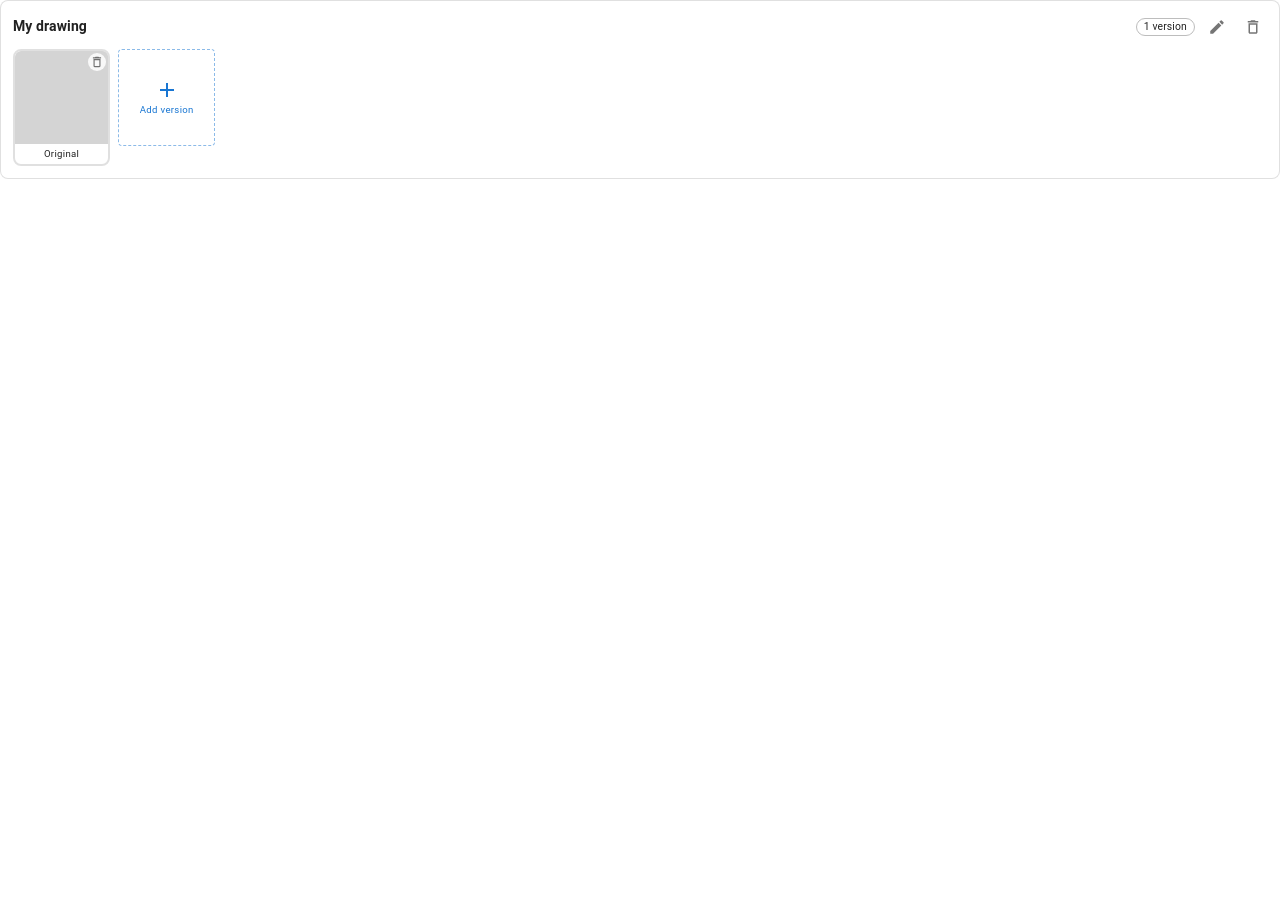
Test: DrawingGroupCard — weekly art cap (FEAT-165 / UX-95) › names WHICH failure it was, and a refusal still spends nothing (FEAT-195)
Step 1. Click the button "Add version" → (167, 98), box [118,49,215,146]
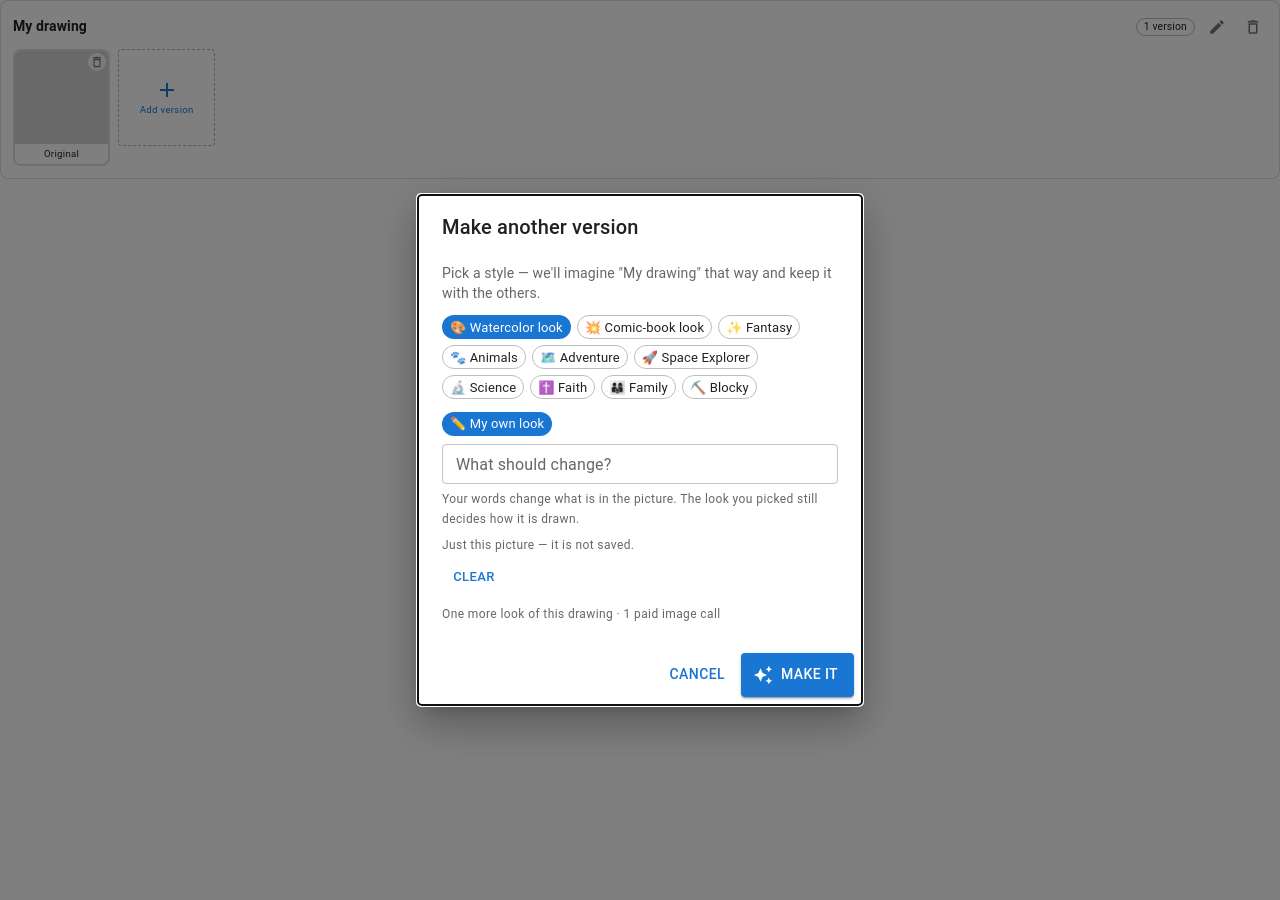
Step 2. Click the button "Make it" → (798, 675), box [741,653,854,697]
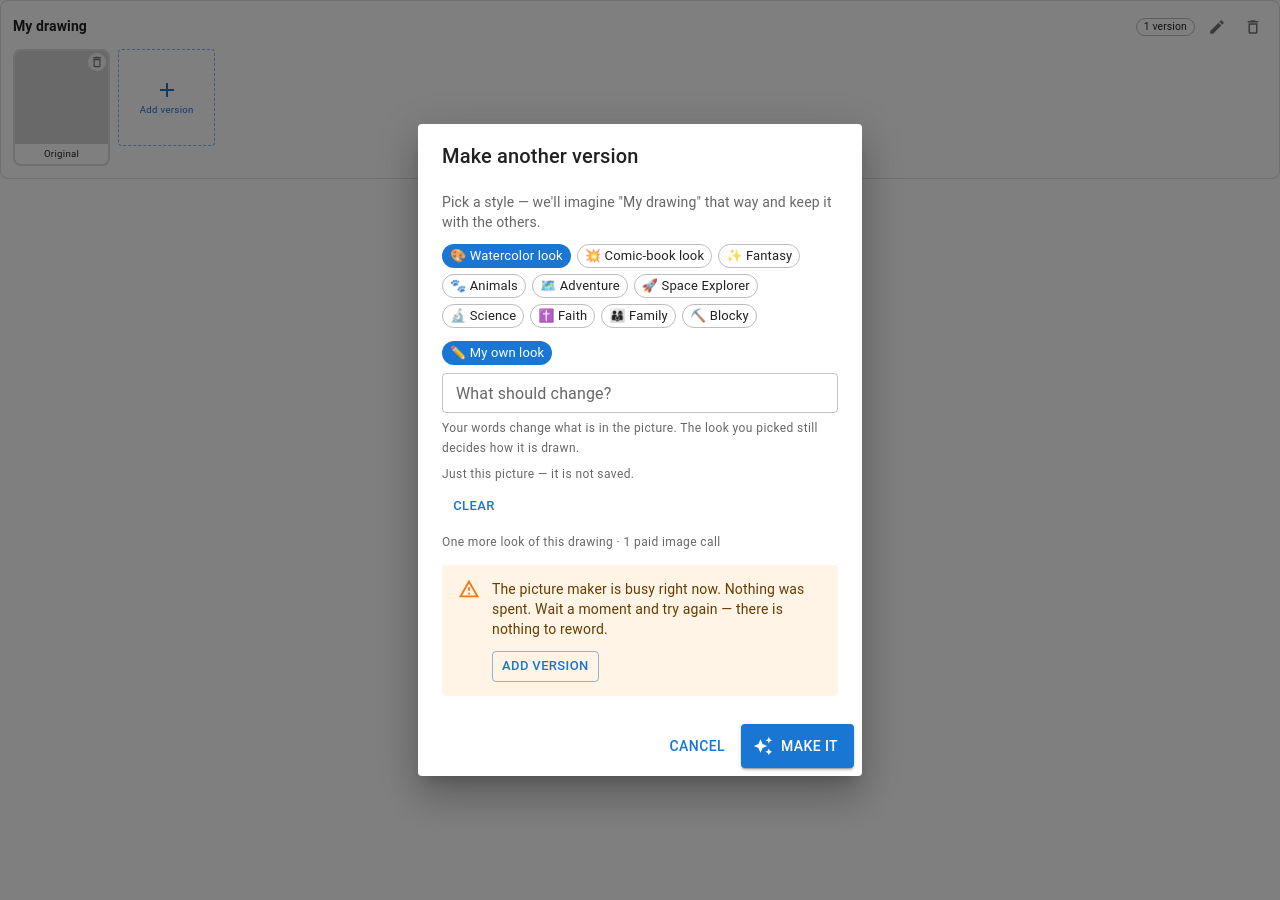
Expected: the text "busy right now" is shown, [492,581,804,637]
